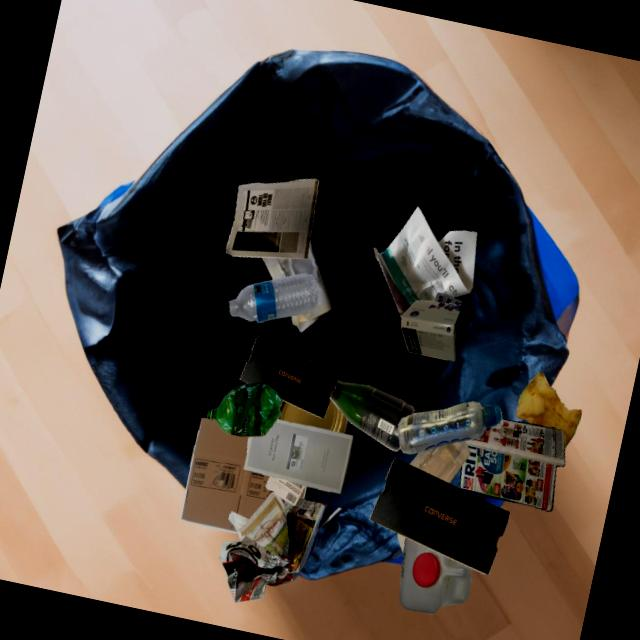biowaste: (515, 372, 581, 448)
cardboard: (369, 457, 509, 574), (180, 417, 274, 534), (239, 336, 338, 418), (400, 300, 462, 361)
glass: (329, 380, 414, 451)
paper: (218, 492, 342, 602), (373, 206, 476, 316), (459, 418, 564, 511), (243, 418, 353, 493), (225, 178, 318, 258), (261, 240, 331, 332), (403, 548, 470, 605), (277, 397, 347, 433), (265, 476, 304, 505)
plastic: (399, 537, 471, 614), (397, 401, 501, 454), (229, 273, 317, 322), (207, 381, 282, 437), (409, 440, 470, 483), (434, 292, 462, 305)
